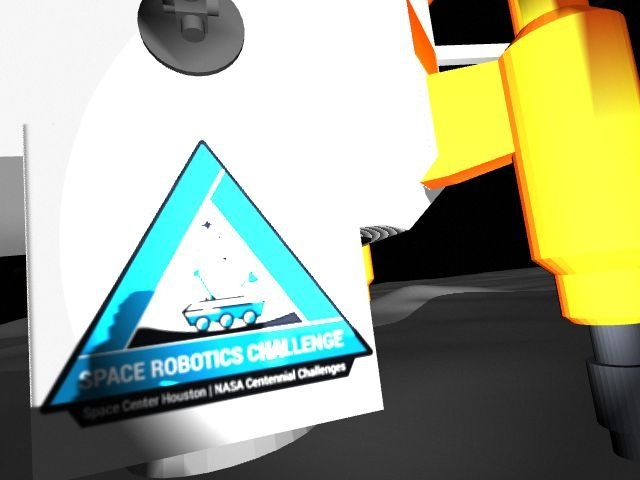basemarker: (40, 139, 374, 430)
